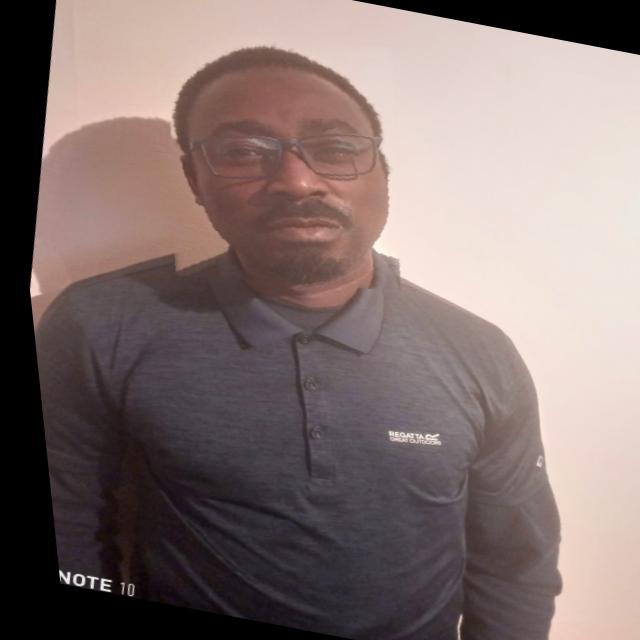sad: (127, 13, 434, 310)
